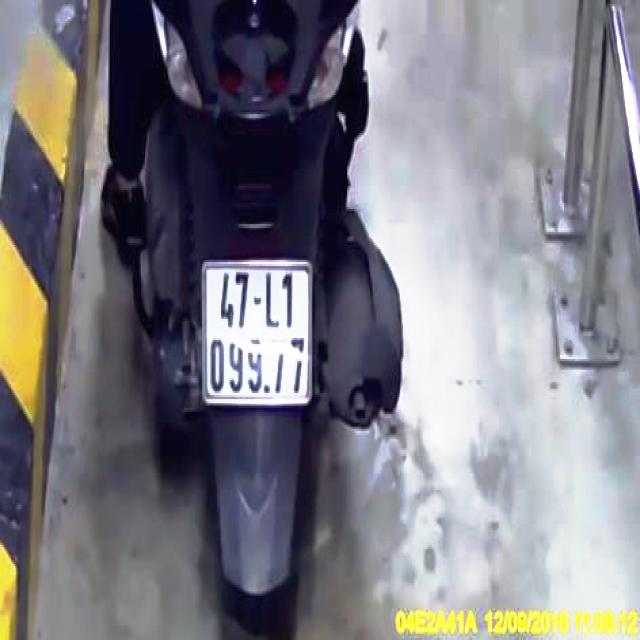license_plate: (205, 265, 310, 404)
